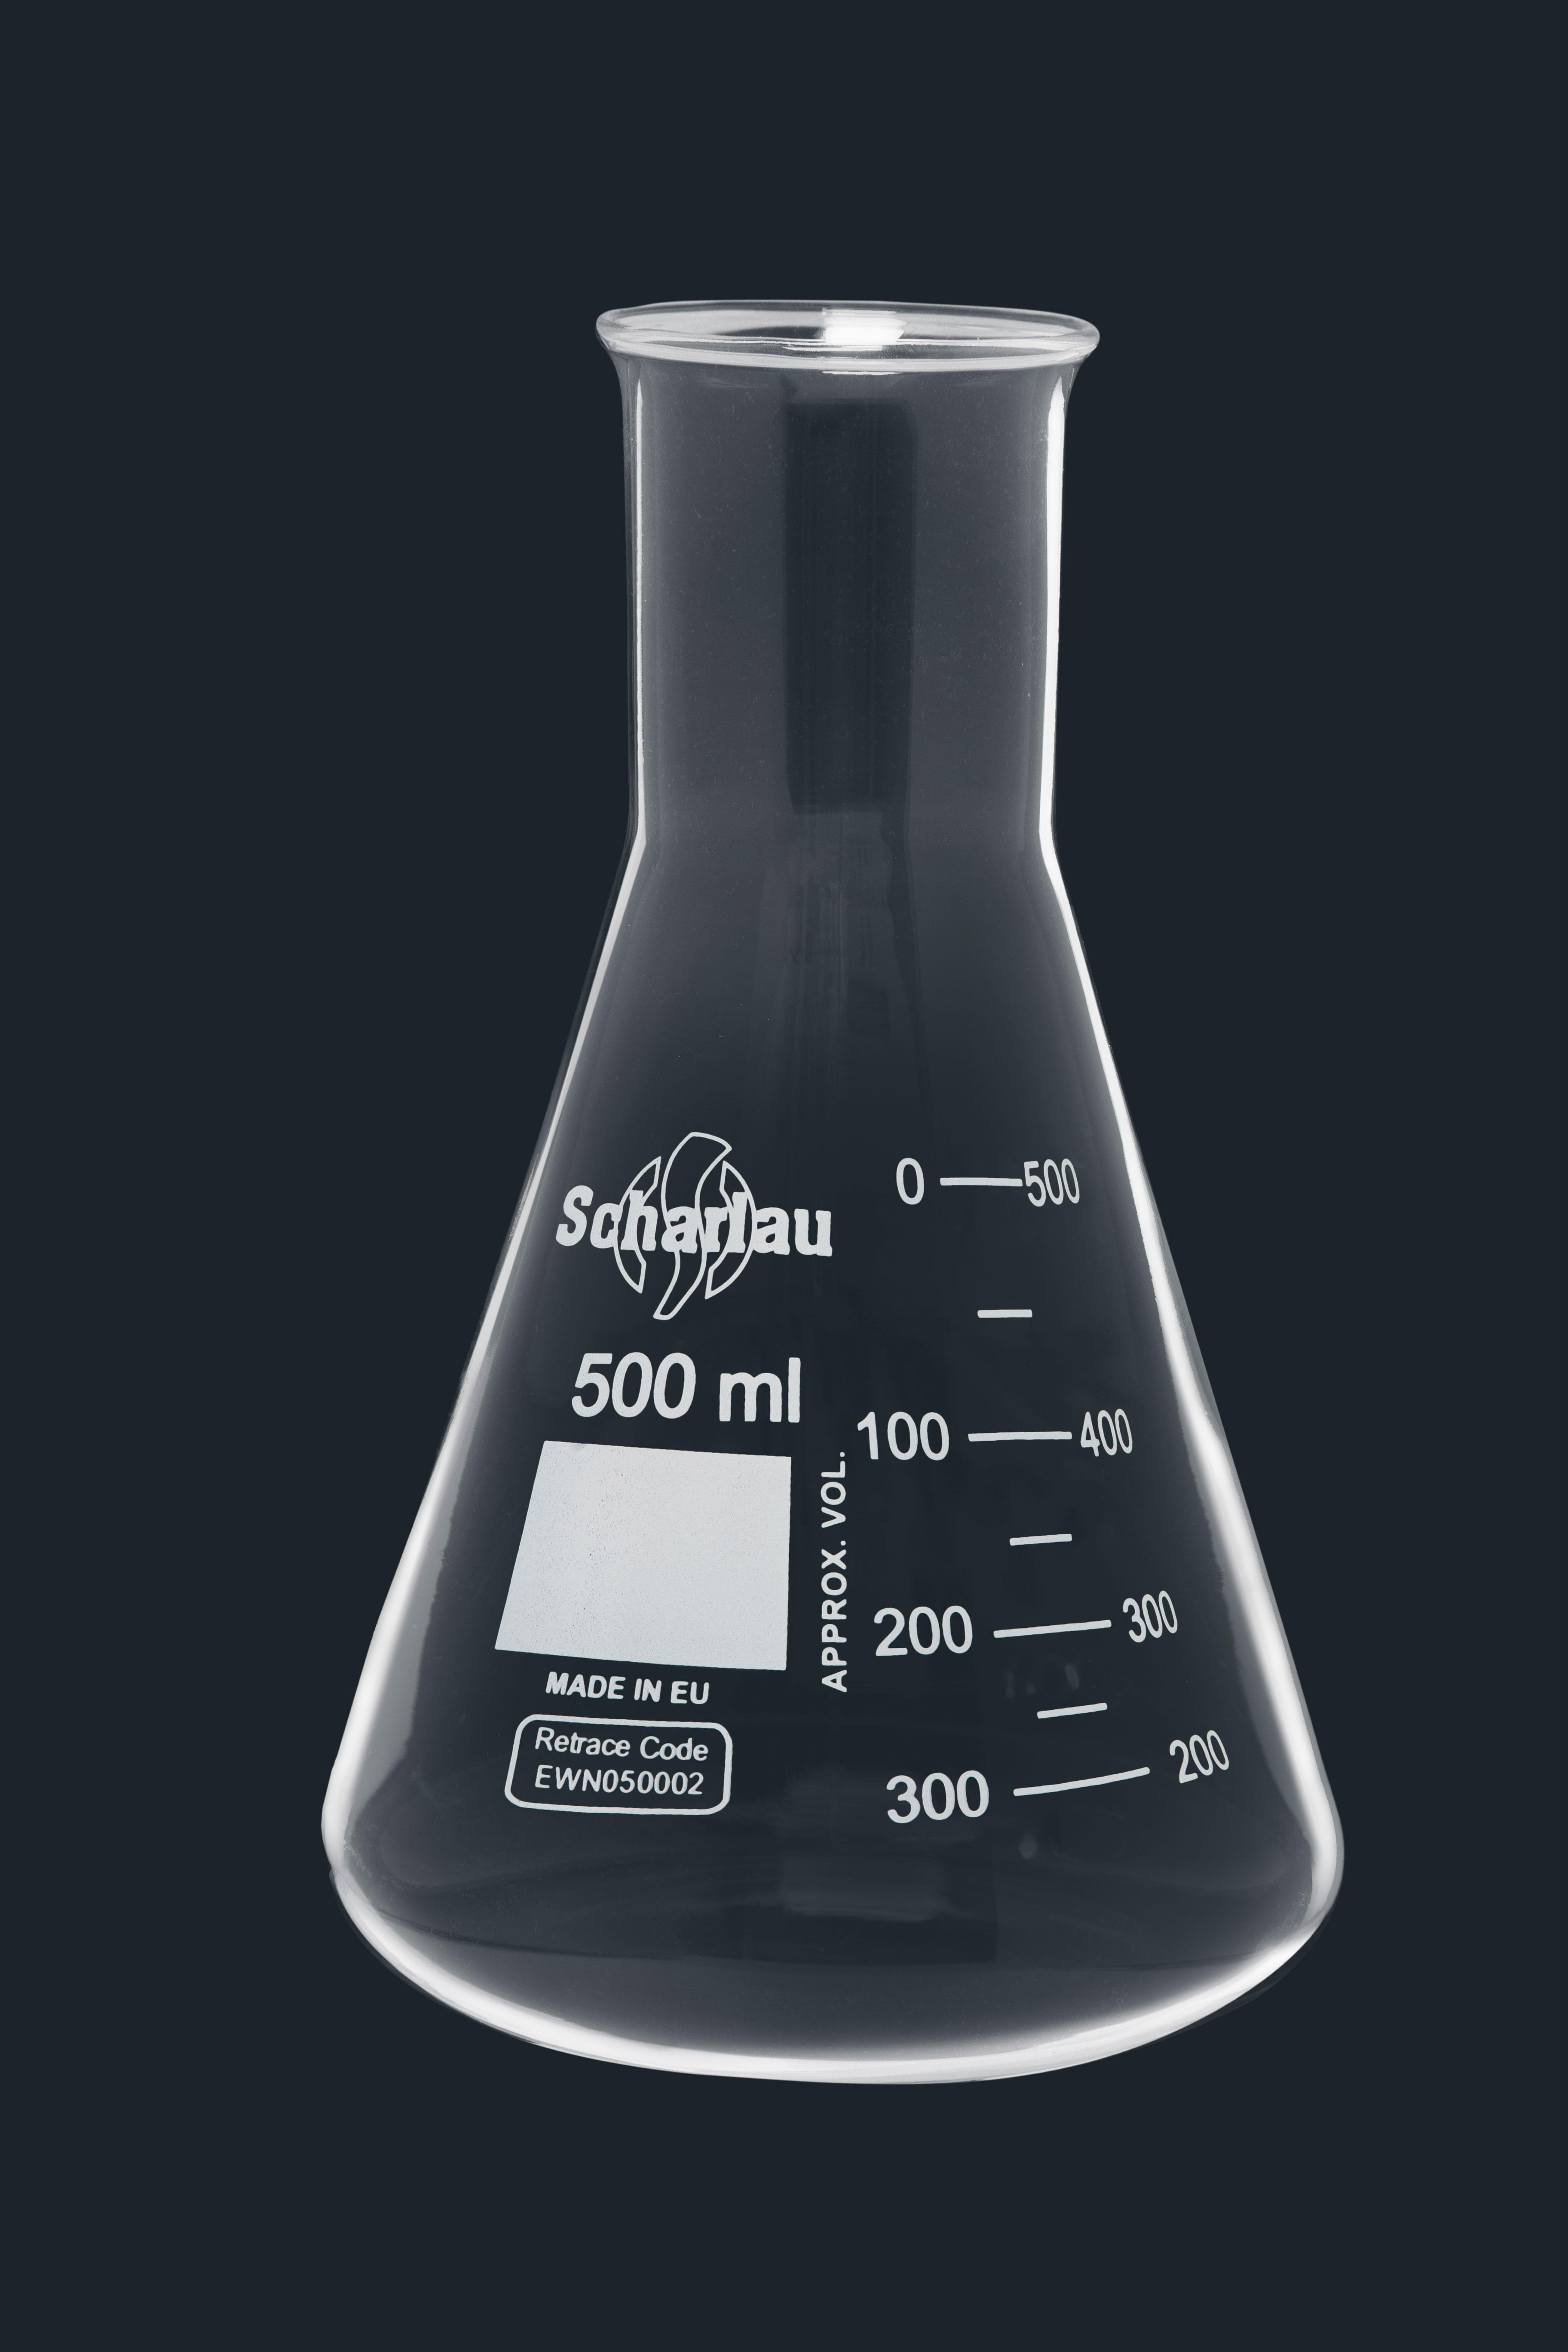Titrarion: (322, 208, 1349, 2072)
